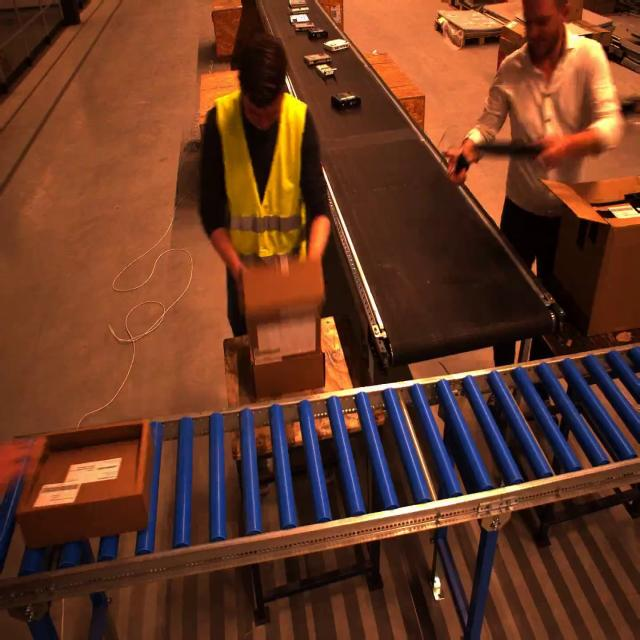box: (13, 424, 152, 547), (536, 175, 638, 331), (237, 255, 326, 397)
product: (331, 92, 360, 110), (303, 53, 331, 67), (314, 63, 337, 78), (323, 39, 349, 52), (292, 22, 314, 33), (290, 13, 311, 24), (308, 28, 328, 39), (289, 0, 308, 10), (289, 6, 309, 13)
